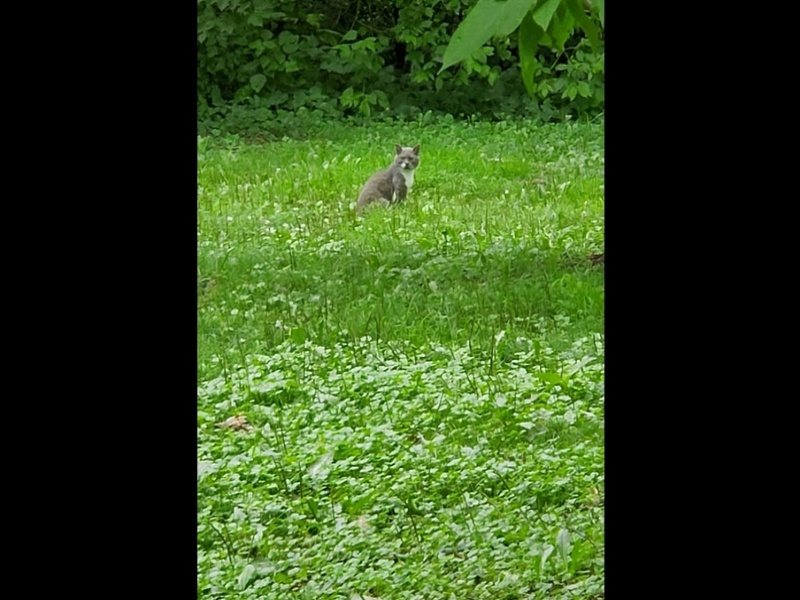cat: (349, 141, 424, 216)
